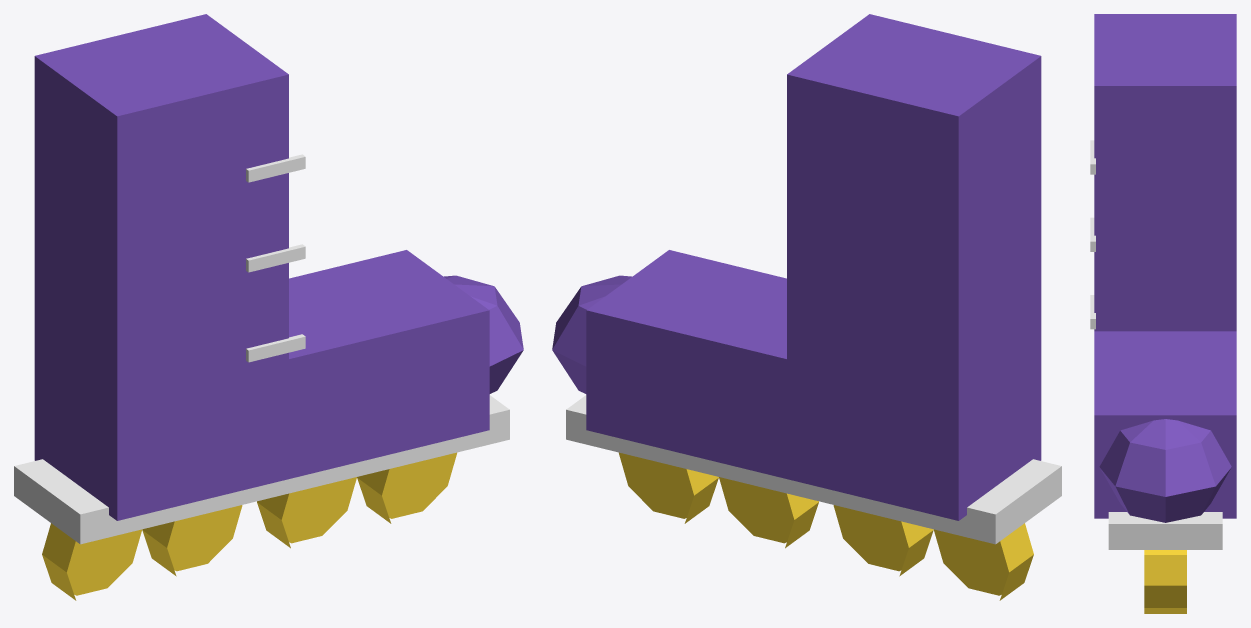
File: rullskridsko.glb
The picture shows the model from 3 angles, left to right: view 1: azimuth 30°, elevation 25°; view 2: azimuth 150°, elevation 25°; view 3: azimuth 270°, elevation 25°; orthographic projection. The views are drawn at different scales.
Visible parts, largest first — view 1: rullskridsko; view 2: rullskridsko; view 3: rullskridsko.
Boxes of the visible parts, x1,y1,x2,y2 form: rullskridsko: [14, 14, 523, 600]; rullskridsko: [552, 14, 1061, 600]; rullskridsko: [1090, 14, 1236, 613].
Size of the model in its own units: 0.33 by 0.3483 by 0.103.
